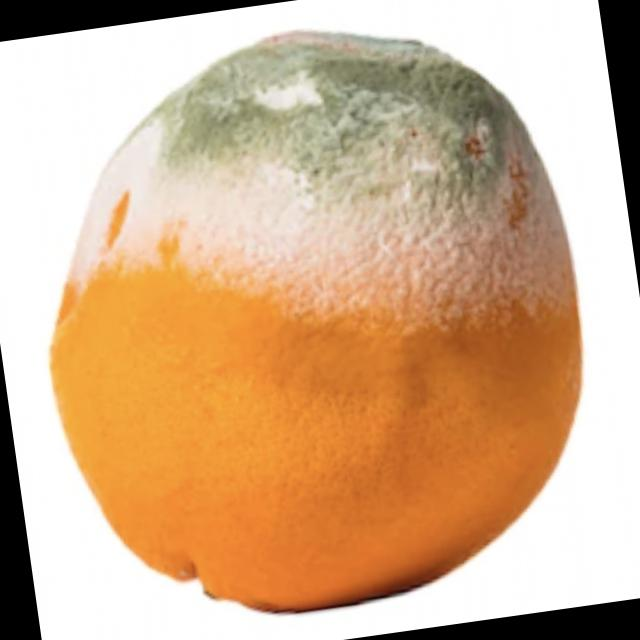rotten-orange: (7, 0, 614, 640)
